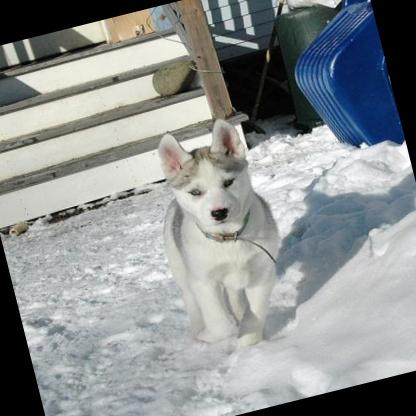Eskimo_dog: (131, 106, 310, 358)
